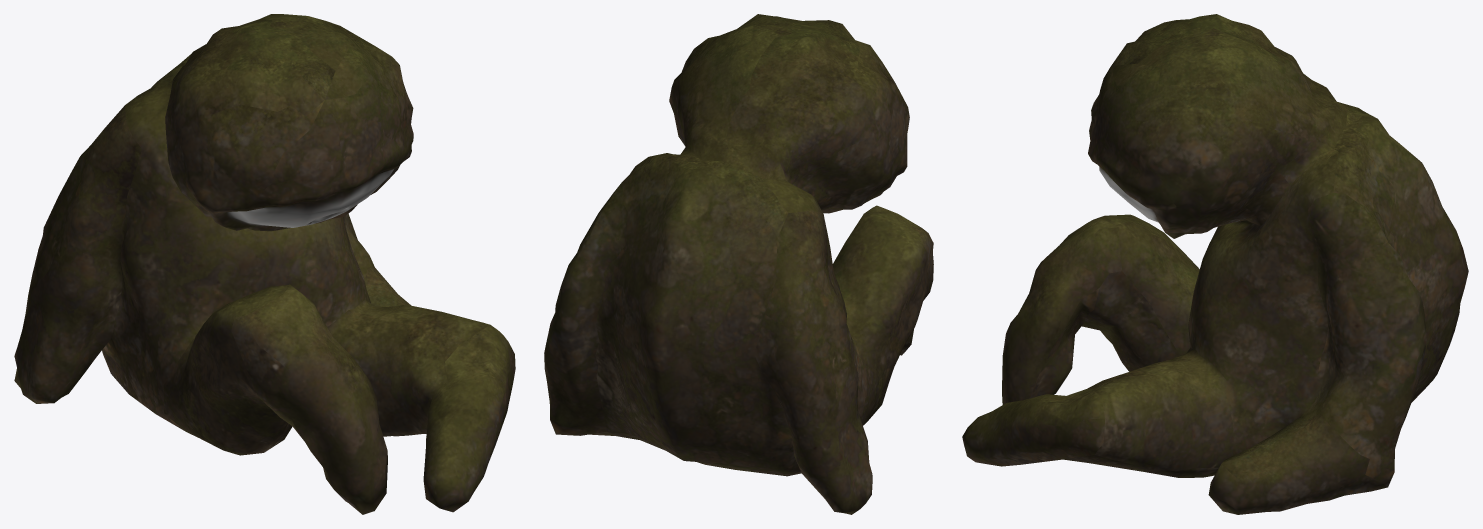
Rendered from seatedCreature.glb.
3 renders of one model, left to right at view 1: azimuth 30°, elevation 25°; view 2: azimuth 150°, elevation 25°; view 3: azimuth 270°, elevation 25°, orthographic. The views are drawn at different scales.
Visible parts, largest first — view 1: seatedCreature; view 2: seatedCreature; view 3: seatedCreature.
Part boxes in pixels (box(x1,y1,x2,y2)): seatedCreature: box(14, 14, 515, 514); seatedCreature: box(544, 14, 933, 514); seatedCreature: box(962, 14, 1468, 514).
Size of the model in its own units: 3.52 by 3.88 by 4.38.
1 material, 1 textured.
